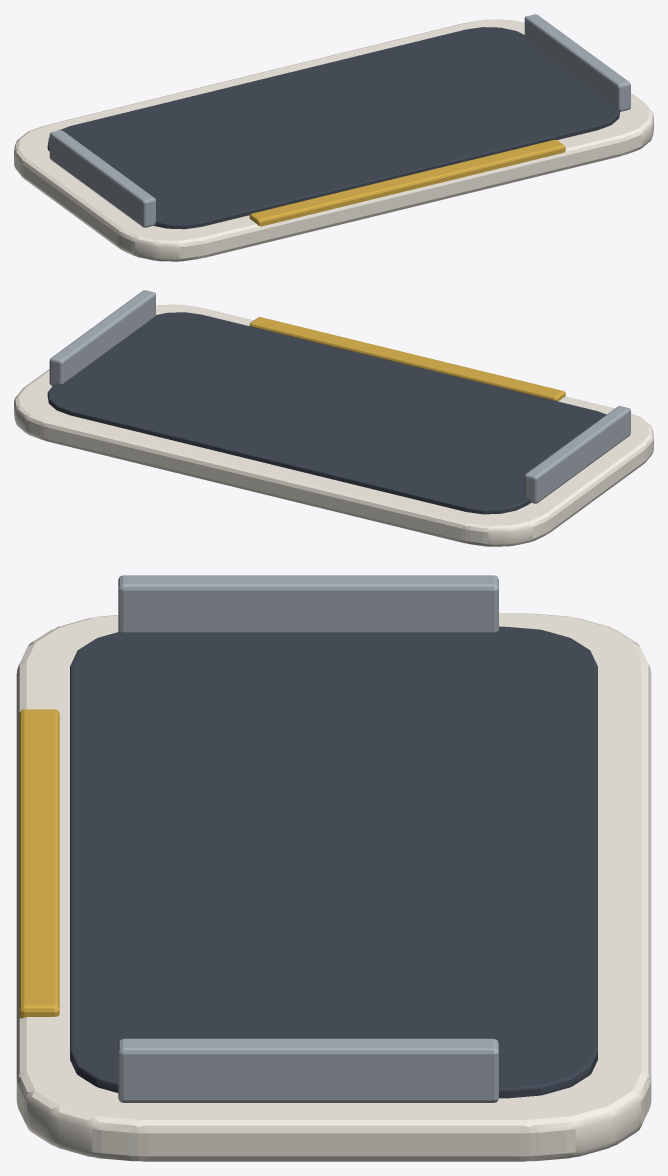
Rendered from CeilingInspectionShelf.fbx.
3 views of the same model, one above another, from view 1: azimuth 30°, elevation 25°; view 2: azimuth 150°, elevation 25°; view 3: azimuth 270°, elevation 25° (orthographic). The views are drawn at different scales.
Visible parts, largest first — view 1: CeilingInspectionShelf_Mesh; view 2: CeilingInspectionShelf_Mesh; view 3: CeilingInspectionShelf_Mesh.
Boxes of the visible parts, x1,y1,x2,y2 form: CeilingInspectionShelf_Mesh: (14,14,653,261); CeilingInspectionShelf_Mesh: (14,290,653,546); CeilingInspectionShelf_Mesh: (16,575,651,1161).
Bounding box in the file's own units: 24 × 2.1 × 12.5.
